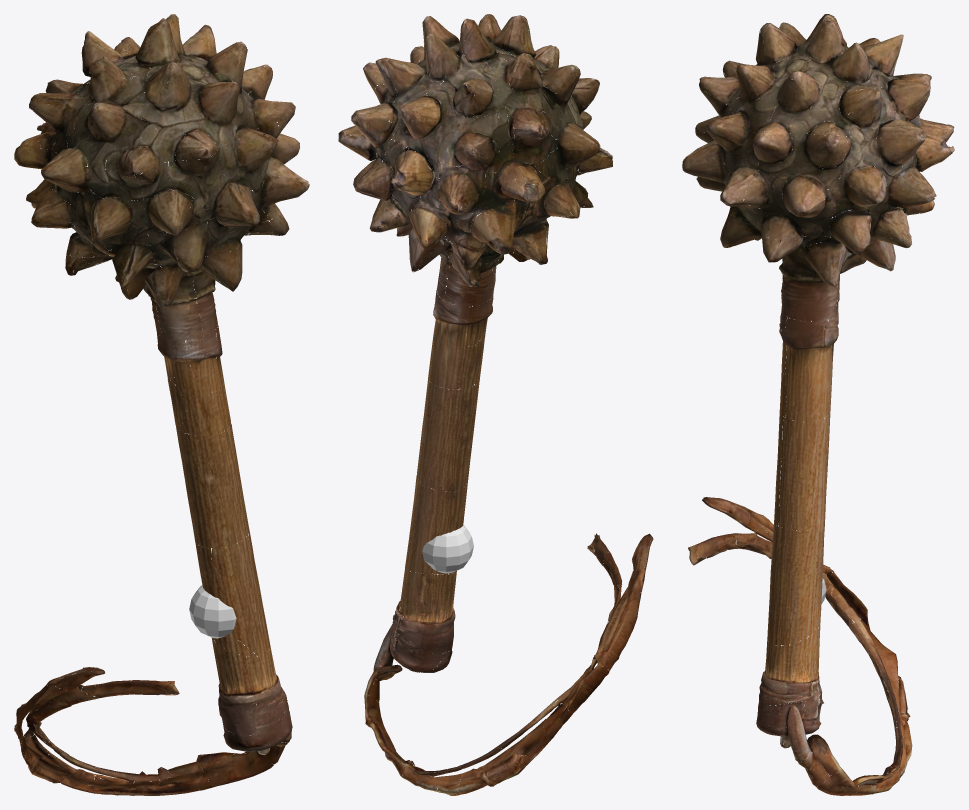
The model's file is mace.glb.
The picture shows the model from 3 angles, left to right: view 1: azimuth 30°, elevation 25°; view 2: azimuth 150°, elevation 25°; view 3: azimuth 270°, elevation 25°; orthographic projection. The views are drawn at different scales.
Parts seen in each view (by area): view 1: tripo_node_4eca1f97-8afc-40c0-adbc-285cca785a97, Sphere; view 2: tripo_node_4eca1f97-8afc-40c0-adbc-285cca785a97, Sphere; view 3: tripo_node_4eca1f97-8afc-40c0-adbc-285cca785a97.
Boxes of the visible parts, <box> form: tripo_node_4eca1f97-8afc-40c0-adbc-285cca785a97: <box>14,14,309,795</box>; Sphere: <box>189,585,236,638</box>; tripo_node_4eca1f97-8afc-40c0-adbc-285cca785a97: <box>338,14,653,795</box>; Sphere: <box>422,524,473,573</box>; tripo_node_4eca1f97-8afc-40c0-adbc-285cca785a97: <box>682,14,954,795</box>.
Size of the model in its own units: 0.217 by 0.6 by 0.1965.
2 materials, 1 textured.
